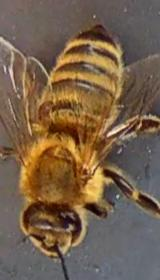varroa_mite: (32, 94, 56, 126)
